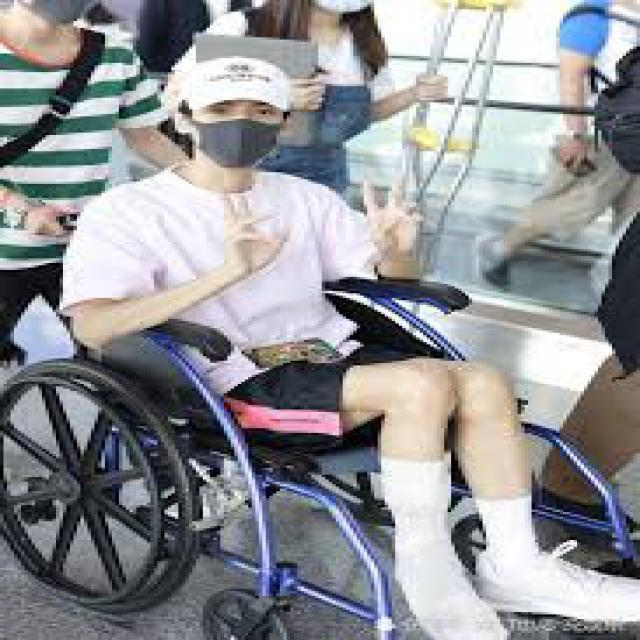wheelchairs: (0, 226, 637, 624)
